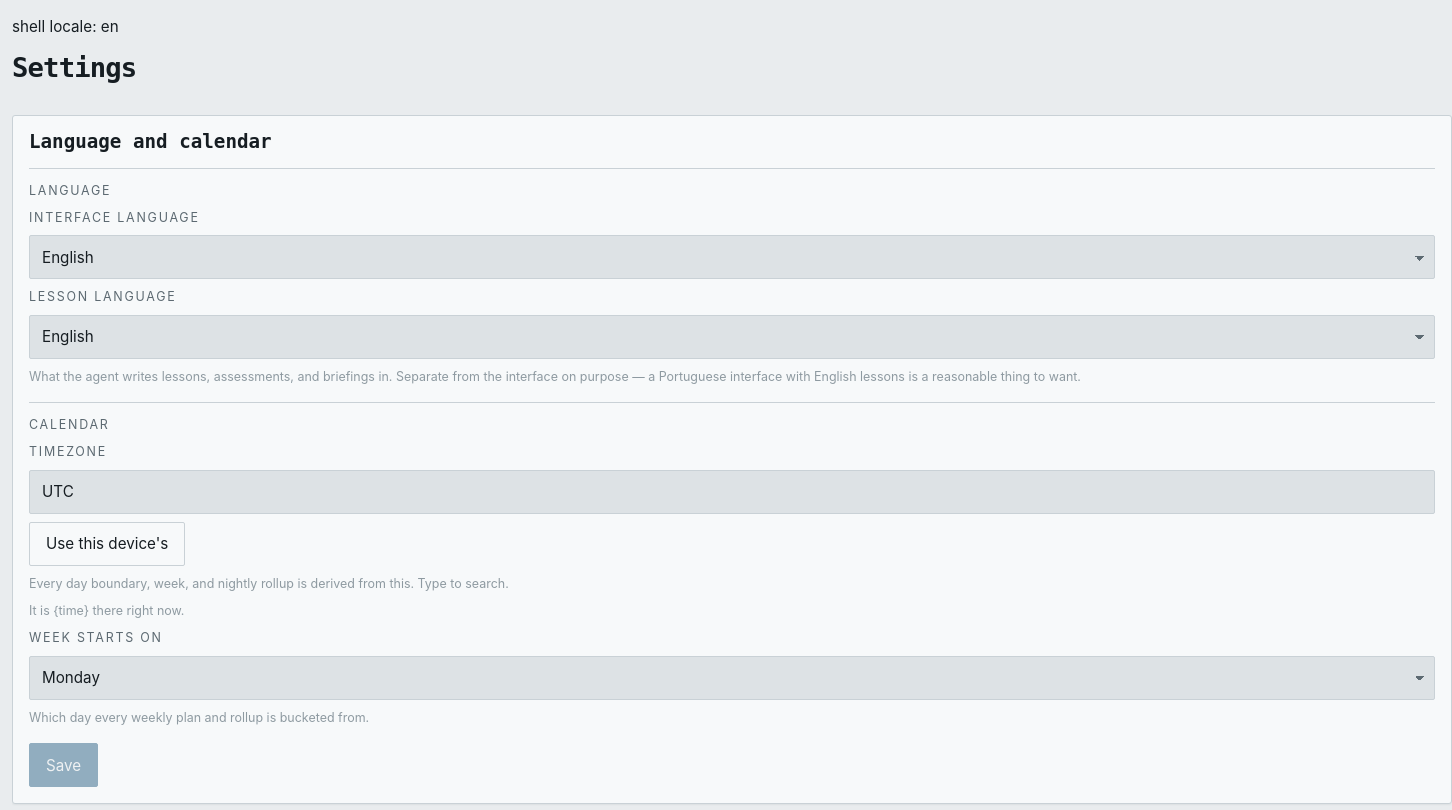
Scenario: one profile, two features reading it › changes the language the shell is reading, without a reload
Check: the text "shell locale: en" is shown, box [12,17,119,36]
Select "Portuguese (Brazil)" in the dropdown labelled "Interface language". click: (732, 257)
box: [29,235,1435,279]
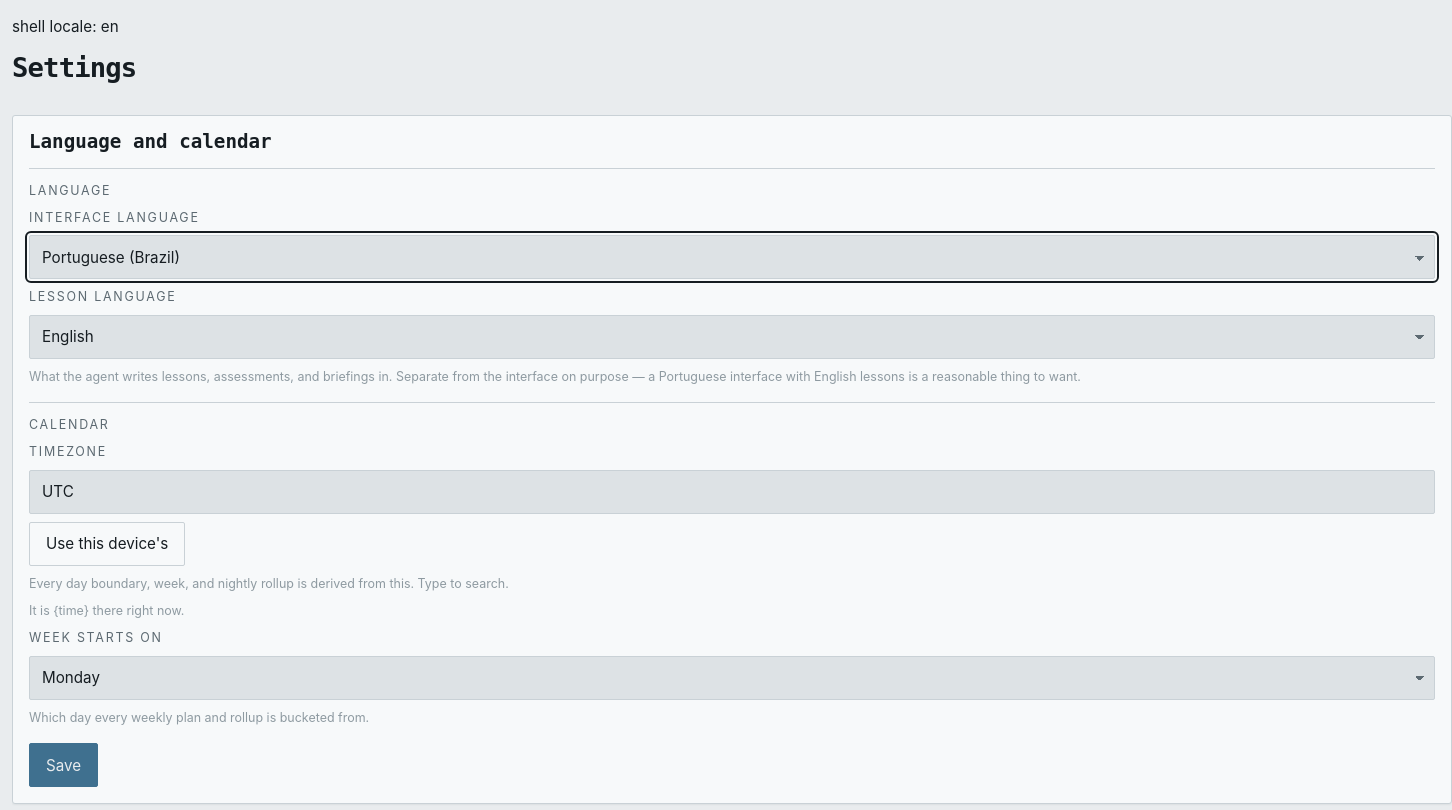
Click the button "Save". click: click(64, 765)
box: [29,743,98,787]
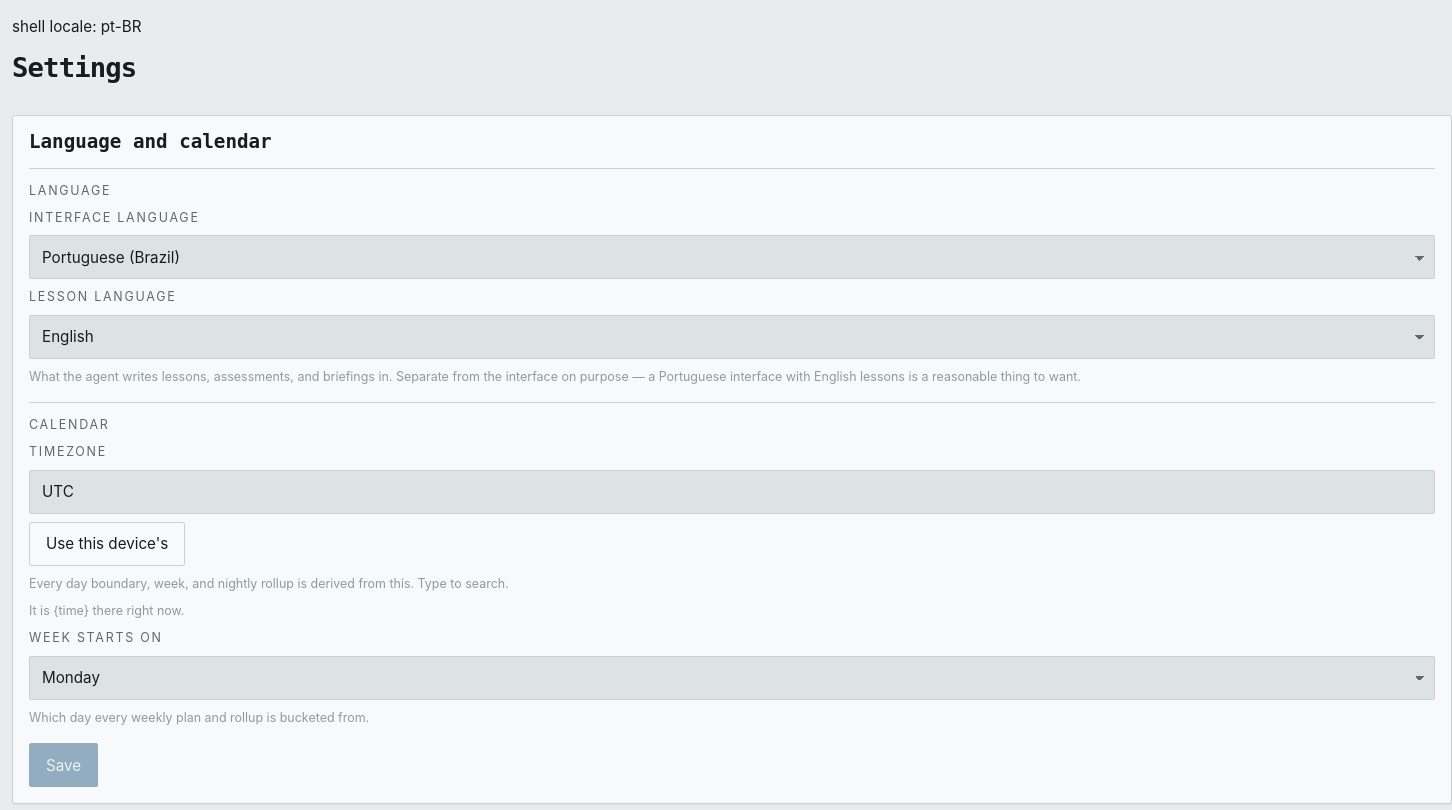
Check: the text "shell locale: pt-BR" is shown, box [12,17,142,36]
